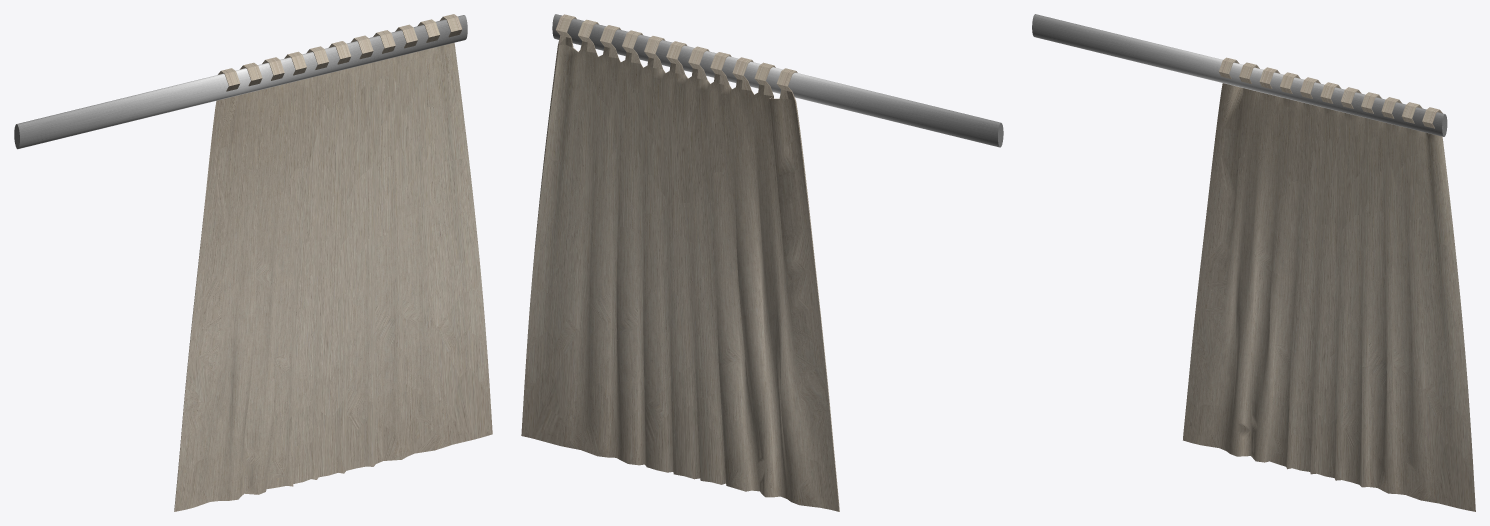
The model's file is Curtain.FBX.
3 views of the same model, side by side, from view 1: azimuth 30°, elevation 25°; view 2: azimuth 150°, elevation 25°; view 3: azimuth 330°, elevation 25° (orthographic). The views are drawn at different scales.
Parts seen in each view (by area): view 1: Plane002, Cylinder002; view 2: Plane002, Cylinder002; view 3: Plane002, Cylinder002.
Boxes of the visible parts, bbox=[...] form: Plane002: bbox=[174, 14, 492, 511]; Cylinder002: bbox=[14, 15, 467, 149]; Plane002: bbox=[521, 14, 839, 511]; Cylinder002: bbox=[552, 14, 1003, 147]; Plane002: bbox=[1183, 57, 1475, 511]; Cylinder002: bbox=[1032, 14, 1447, 136].
Size of the model in its own units: 222 by 191 by 10.63.
2 materials, 2 textured.
